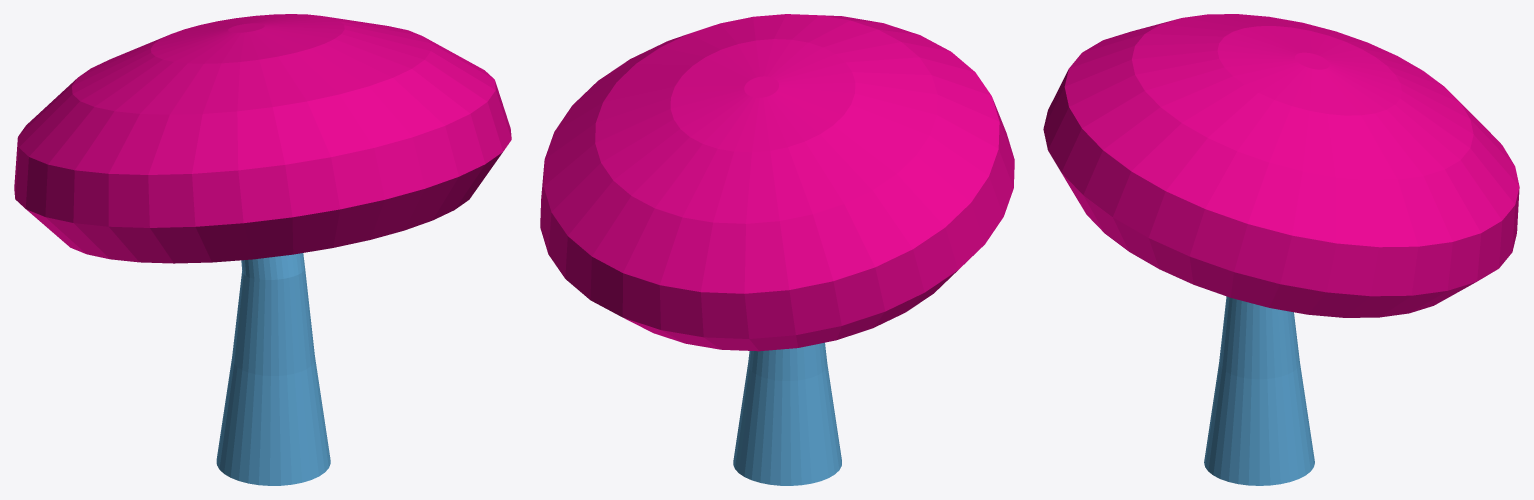
File: Grzybek6.fbx
The picture shows the model from 3 angles, left to right: view 1: azimuth 30°, elevation 25°; view 2: azimuth 150°, elevation 25°; view 3: azimuth 270°, elevation 25°; orthographic projection. The views are drawn at different scales.
Visible parts, largest first — view 1: Circle; view 2: Circle; view 3: Circle.
Part boxes in pixels (<box>): Circle: <box>14,14,511,485</box>; Circle: <box>540,14,1014,485</box>; Circle: <box>1043,14,1519,485</box>.
Bounding box in the file's own units: 878 × 819 × 858.
